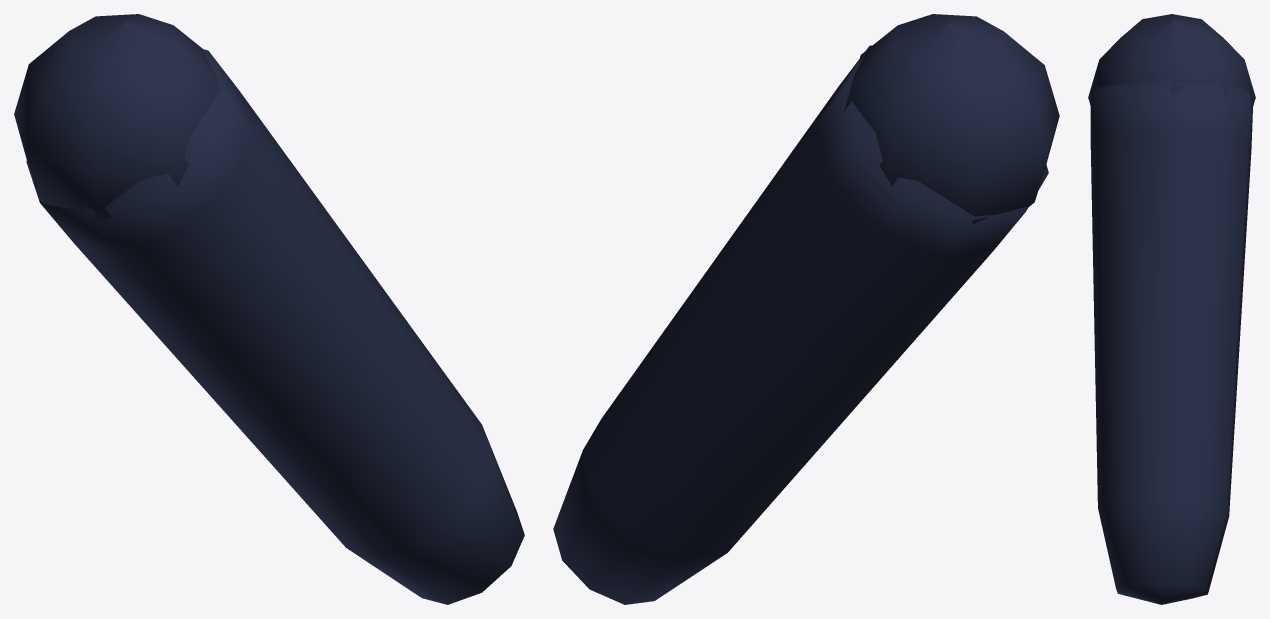
The model's file is upperarm_L.obj.
3 views of the same model, side by side, from view 1: azimuth 30°, elevation 25°; view 2: azimuth 150°, elevation 25°; view 3: azimuth 270°, elevation 25° (orthographic). The views are drawn at different scales.
Parts seen in each view (by area): view 1: upperarm_L; view 2: upperarm_L; view 3: upperarm_L.
Part boxes in pixels (x1,y1,x2,y2): upperarm_L: (14, 14, 524, 604); upperarm_L: (553, 14, 1059, 604); upperarm_L: (1088, 14, 1255, 604).
Size of the model in its own units: 0.2689 by 0.3421 by 0.1099.
